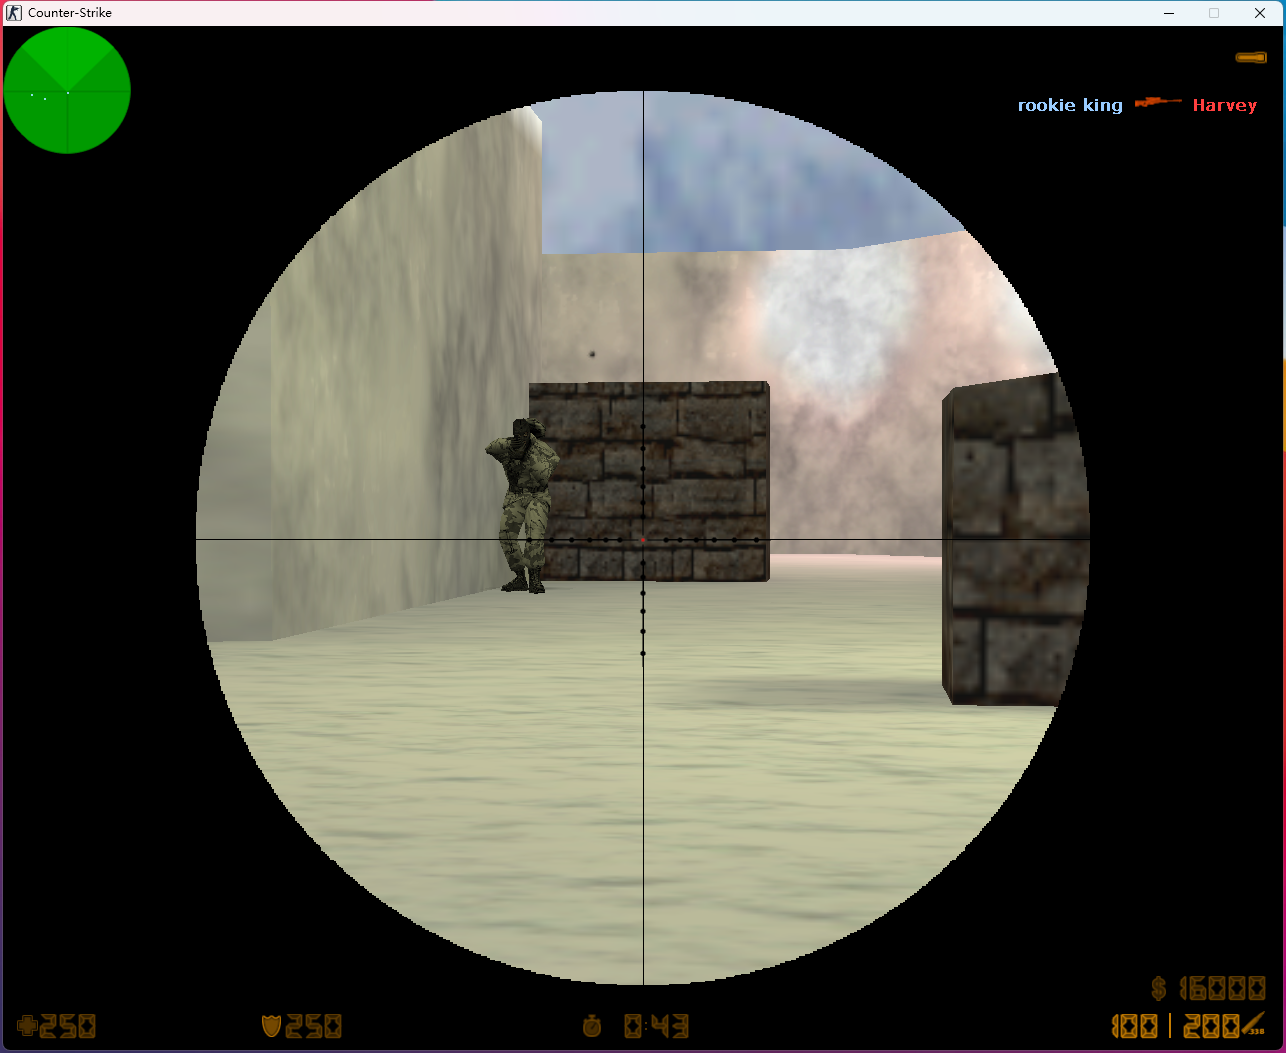T: (484, 419, 563, 595)
